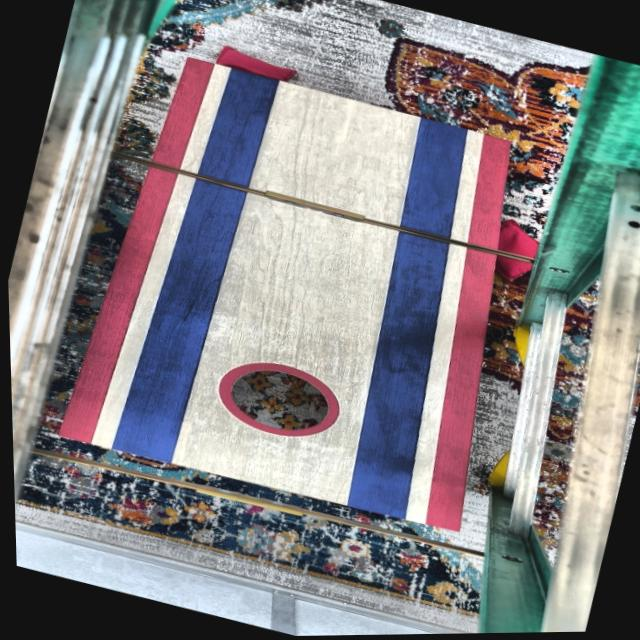board: (85, 57, 516, 527)
hole: (205, 348, 347, 450)
red-bean-bag: (486, 216, 541, 287), (215, 43, 297, 84)
